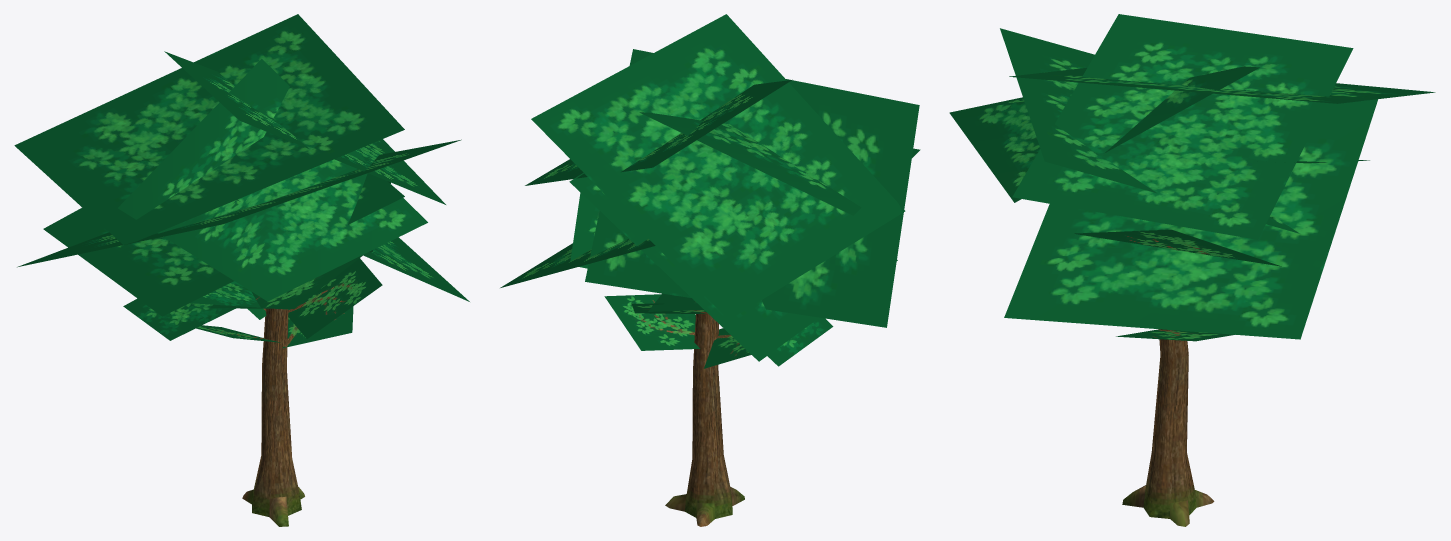
Rendered from tree_1.glb.
3 renders of one model, left to right at view 1: azimuth 30°, elevation 25°; view 2: azimuth 150°, elevation 25°; view 3: azimuth 270°, elevation 25°, orthographic. The views are drawn at different scales.
Parts seen in each view (by area): view 1: tree_1; view 2: tree_1; view 3: tree_1.
Part boxes in pixels (<box>): tree_1: <box>14,14,469,526</box>; tree_1: <box>500,14,920,526</box>; tree_1: <box>949,14,1435,526</box>.
Bounding box in the file's own units: 7.36 × 8.12 × 7.74.
Materials: 2 (2 with a texture image).
